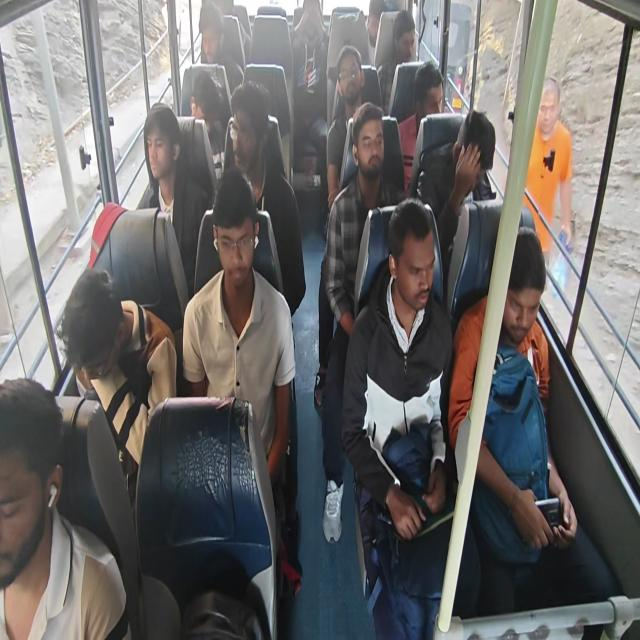person: (0, 386, 61, 548), (59, 275, 123, 383), (215, 194, 264, 297), (496, 244, 541, 343), (392, 220, 433, 320), (229, 96, 262, 176), (456, 121, 492, 186), (194, 77, 225, 145), (353, 114, 385, 171), (144, 114, 172, 176), (334, 52, 364, 100), (419, 74, 445, 126), (196, 19, 222, 68), (396, 22, 422, 70), (302, 6, 324, 50), (363, 2, 387, 40)
